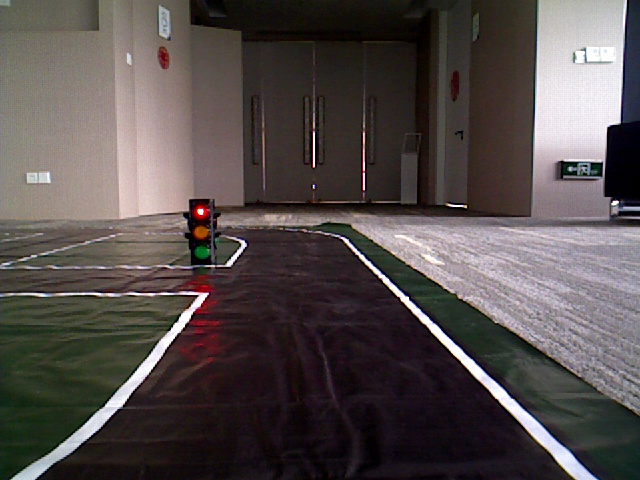red: (189, 200, 211, 260)
